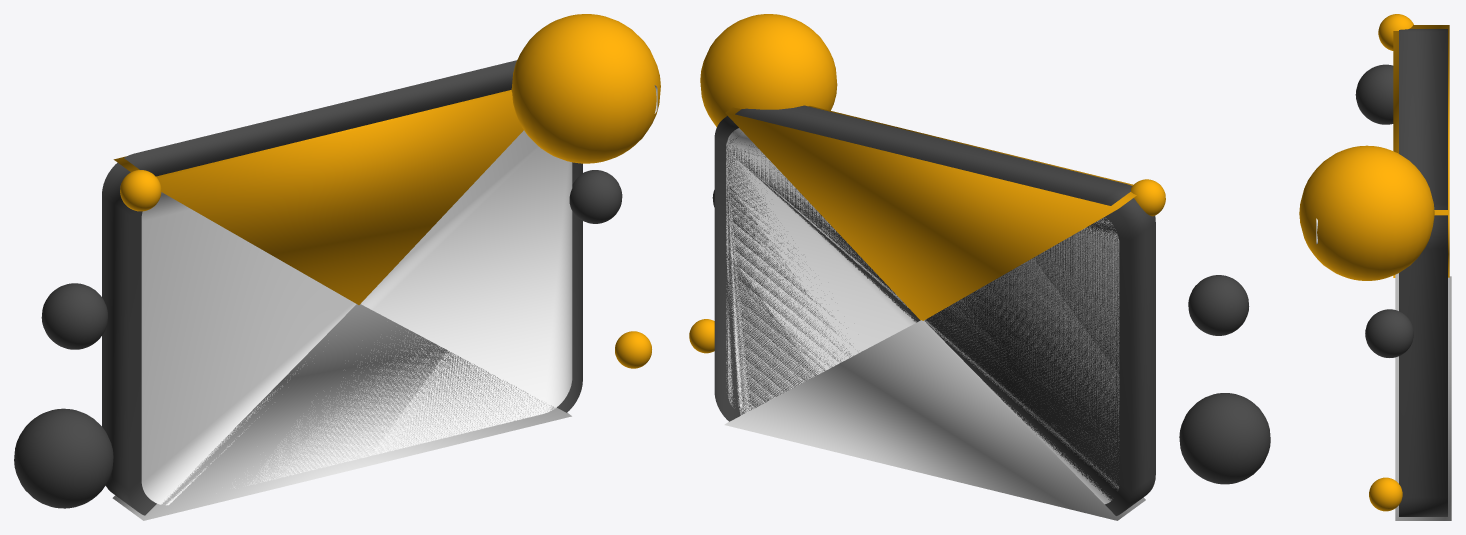
The model's file is email_99.glb.
The picture shows the model from 3 angles, left to right: view 1: azimuth 30°, elevation 25°; view 2: azimuth 150°, elevation 25°; view 3: azimuth 270°, elevation 25°; orthographic projection. The views are drawn at different scales.
Parts seen in each view (by area): view 1: EF, EFlap, EFold, EB, EBadge, ES-1.65, ES-1.6, ES1.3, ES-1.2, ES1.5; view 2: EB, EF, EFlap, EFold, EBadge, ES-1.65, ES-1.6, ES-1.2, ES1.5; view 3: EB, EBadge, ES-1.6, ES1.3, EFlap, EFold, ES1.5, ES-1.2, EF.
Part boxes in pixels (x1,y1,x2,y2): EF: (141,130,572,505); EFlap: (113,90,523,304); EFold: (112,304,571,520); EB: (102,60,582,515); EBadge: (511,14,660,163); ES-1.65: (14,408,113,508); ES-1.6: (41,283,107,349); ES1.3: (569,170,622,223); ES-1.2: (120,170,161,211); ES1.5: (615,331,651,368); EB: (714,105,1155,515); EF: (726,128,1119,504); EFlap: (725,106,1136,320); EFold: (724,320,1145,520); EBadge: (700,14,837,127); ES-1.65: (1179,393,1270,484); ES-1.6: (1188,275,1249,335); ES-1.2: (1131,179,1165,216); ES1.5: (689,319,714,353); EB: (1399,29,1447,516); EBadge: (1299,145,1434,280); ES-1.6: (1355,64,1393,124); ES1.3: (1365,309,1413,357); EFlap: (1393,25,1449,277); EFold: (1395,276,1451,520); ES1.5: (1369,477,1402,511); ES-1.2: (1378,14,1413,50); EF: (1395,273,1398,483).
Bounding box in the file's own units: 3.48 × 2.17 × 0.81.
